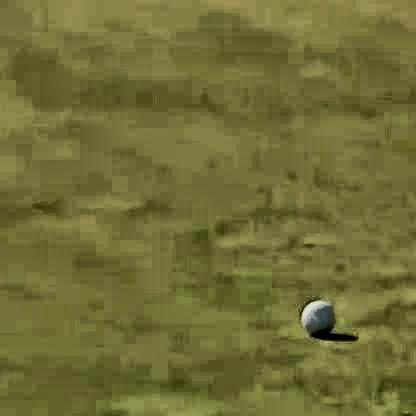golfball: (296, 291, 332, 333)
